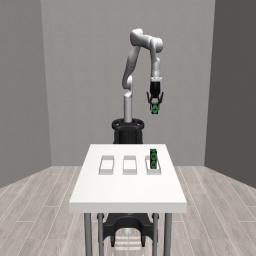cube1: (151, 102, 158, 115)
cube2: (150, 148, 157, 161)
cube3: (150, 160, 156, 170)
